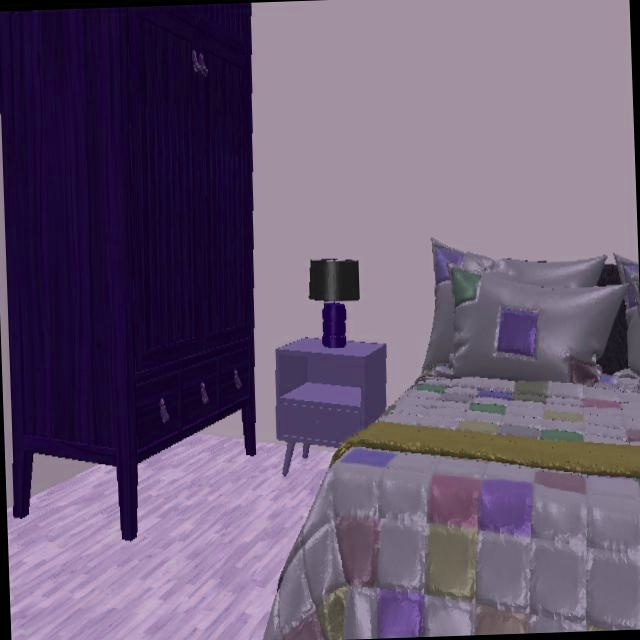bed: (263, 364, 640, 640), (596, 289, 630, 376), (598, 265, 622, 287)
lamp: (308, 259, 360, 348)
nighttable: (274, 337, 386, 476)
pillow: (422, 239, 605, 371), (450, 266, 630, 386), (613, 254, 640, 378)
wardrobe: (0, 2, 257, 543)
